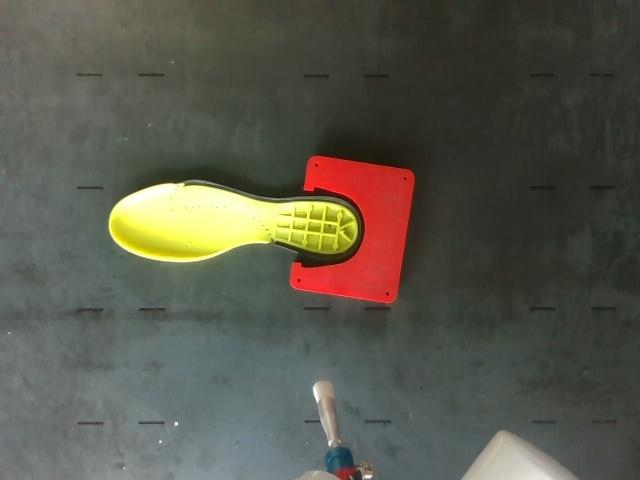shoes: (109, 180, 361, 261)
